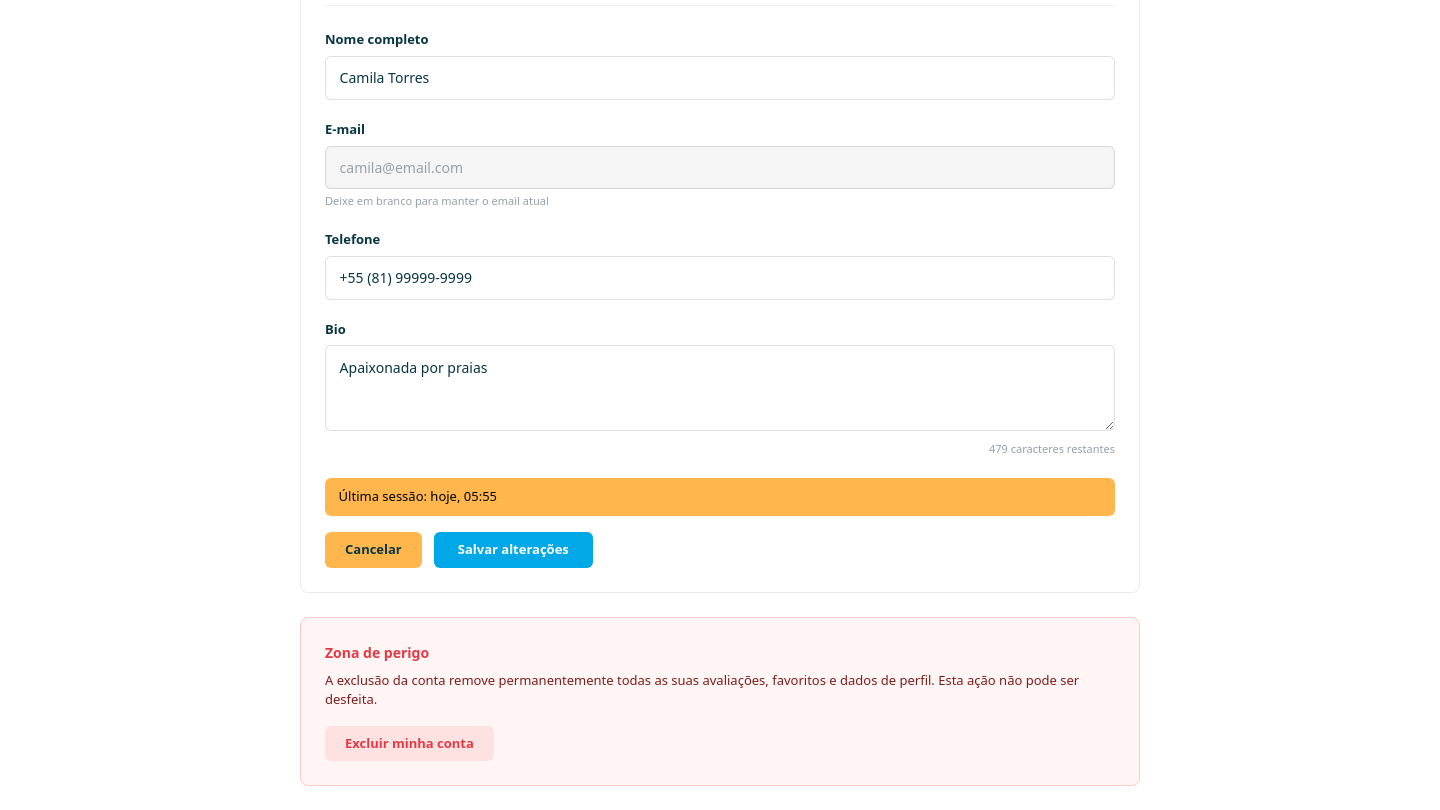
Test: AccountComponent › should open delete confirmation modal when delete button is clicked
(page scrolled)
// Click delete button
Click the button with test id "delete-account-btn" at point(409, 744), box [325,726,494,761]
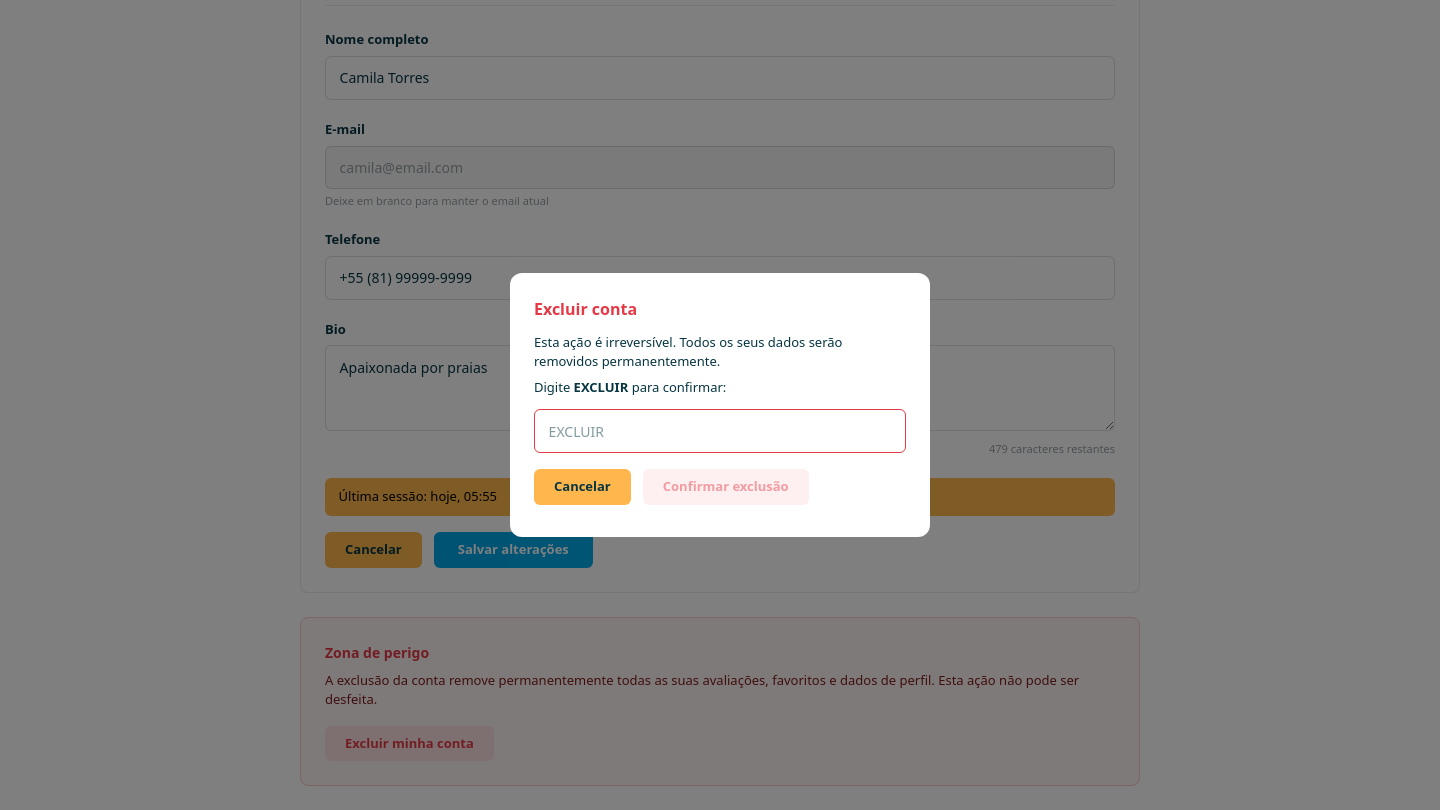
Expected: the element with test id "delete-modal" is shown
Expected: the field with test id "confirm-input" is shown, [534,409,906,453]
Expected: the button with test id "modal-cancel-btn" is shown, [534,469,631,505]
